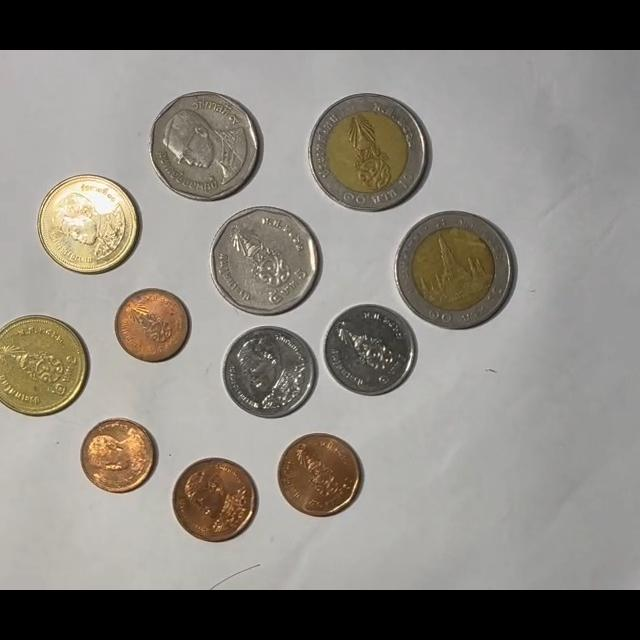1-baht: (323, 303, 418, 397), (221, 325, 316, 419)
10-baht: (308, 93, 429, 213), (395, 211, 515, 330)
2-baht: (37, 175, 139, 275), (0, 314, 88, 417)
25-satang: (80, 418, 157, 493), (115, 288, 189, 362)
5-baht: (149, 91, 263, 203), (210, 206, 320, 316)
50-satang: (171, 457, 258, 543), (277, 433, 362, 516)
